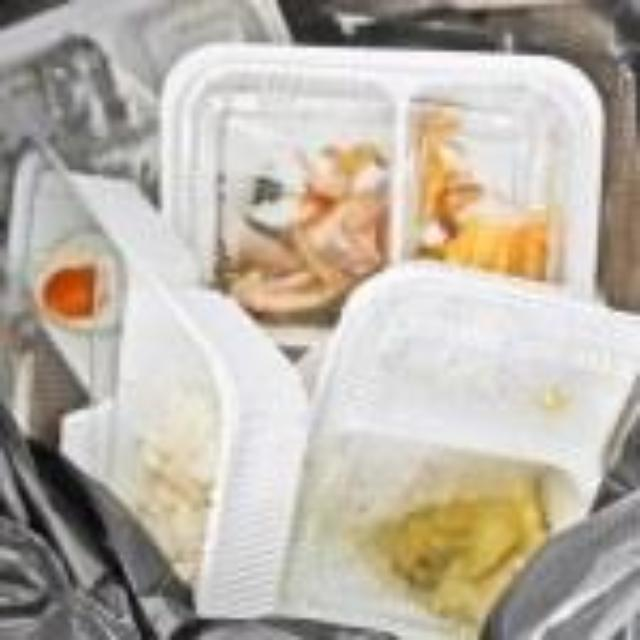Disposable: (11, 151, 307, 617), (279, 261, 640, 640), (163, 44, 604, 318), (2, 0, 291, 226)
Garbage: (0, 0, 640, 639)
